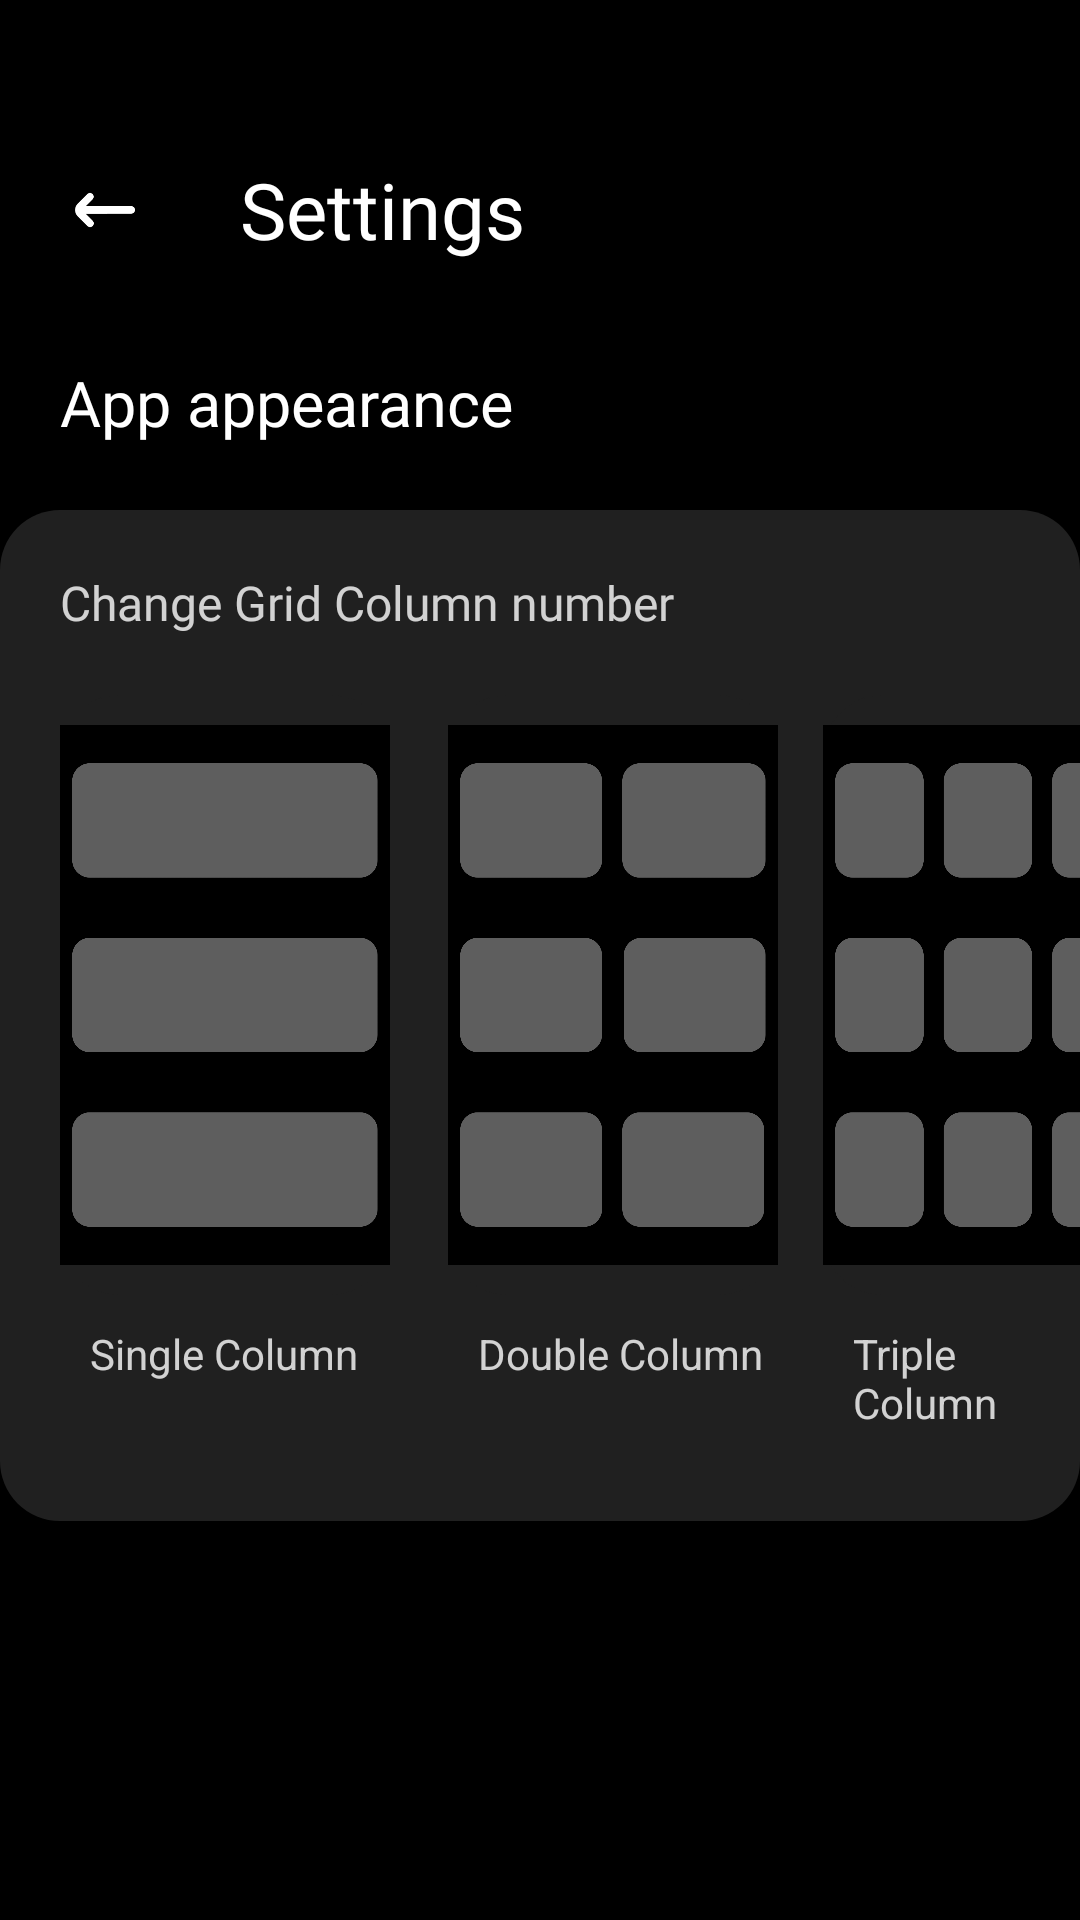

Icon bounding boxes for this 1080px×1920px phone screenshot, format {"left": x1, "top": y1, "right": x2, "bottom": y2}:
back: {"left": 75, "top": 193, "right": 135, "bottom": 227}
